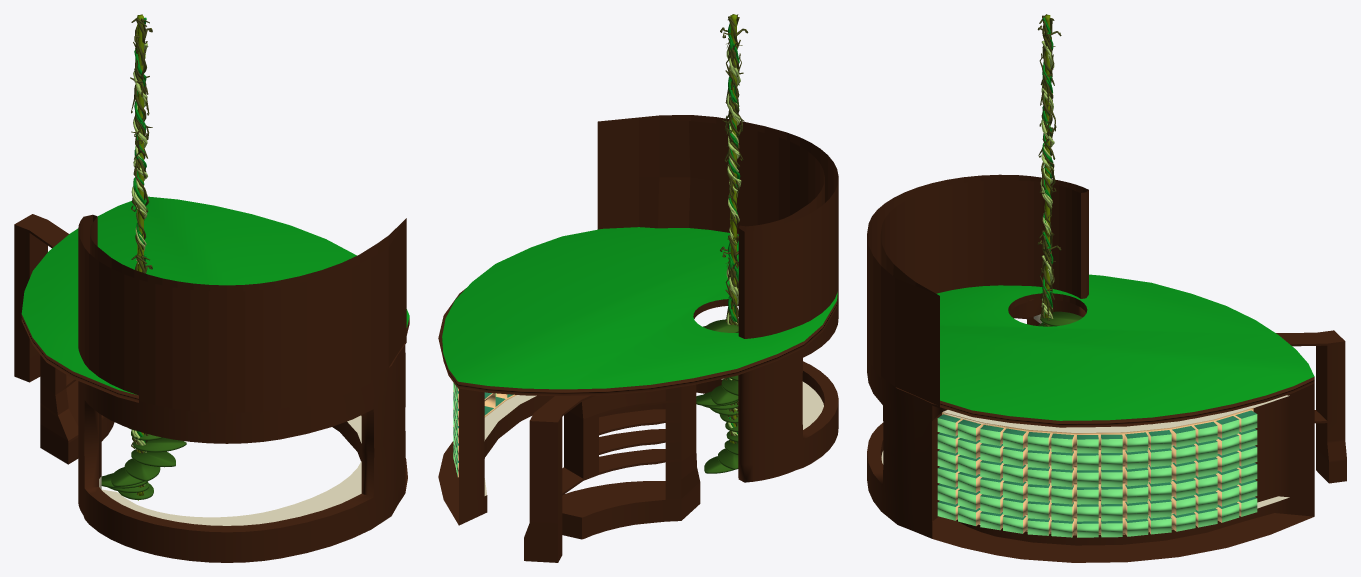
File: ShelvsLvl4.fbx
3 views of the same model, side by side, from view 1: azimuth 30°, elevation 25°; view 2: azimuth 150°, elevation 25°; view 3: azimuth 270°, elevation 25° (orthographic). The views are drawn at different scales.
Parts seen in each view (by area): view 1: Walls.LivingQuarters.Lvl4, FrontDesk.Lvl1.003, LeafPlatform.Lvl4, Shelf.001, Plane.004, Stair, Plane.007; view 2: LeafPlatform.Lvl4, Walls.LivingQuarters.Lvl4, Shelf.001, FrontDesk.Lvl1.003, Plane.004, Stair, Plane.007, LibrariansArchive.Lvl1; view 3: LeafPlatform.Lvl4, LibrariansArchive.Lvl1, Walls.LivingQuarters.Lvl4, FrontDesk.Lvl1.003, Shelf.001, Plane.004, Plane.007.
Part boxes in pixels (<box>): Walls.LivingQuarters.Lvl4: <box>78,214,406,414</box>; FrontDesk.Lvl1.003: <box>78,332,407,562</box>; LeafPlatform.Lvl4: <box>21,196,409,402</box>; Shelf.001: <box>14,214,114,464</box>; Plane.004: <box>130,14,152,263</box>; Stair: <box>101,428,186,499</box>; Plane.007: <box>131,254,152,500</box>; LeafPlatform.Lvl4: <box>442,227,837,395</box>; Walls.LivingQuarters.Lvl4: <box>597,115,838,338</box>; Shelf.001: <box>524,384,700,562</box>; FrontDesk.Lvl1.003: <box>438,288,838,525</box>; Plane.004: <box>720,14,748,243</box>; Stair: <box>696,319,738,473</box>; Plane.007: <box>720,233,738,443</box>; LibrariansArchive.Lvl1: <box>453,382,516,477</box>; LeafPlatform.Lvl4: <box>936,274,1314,427</box>; LibrariansArchive.Lvl1: <box>937,407,1257,537</box>; Walls.LivingQuarters.Lvl4: <box>867,174,1088,408</box>; FrontDesk.Lvl1.003: <box>867,299,1314,562</box>; Shelf.001: <box>1276,330,1346,483</box>; Plane.004: <box>1037,14,1061,237</box>; Plane.007: <box>1038,230,1061,326</box>.
Bounding box in the file's own units: 1532 × 2087 × 2072.
